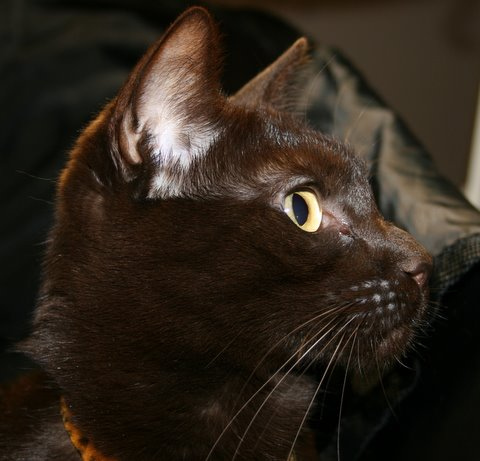cat: (17, 9, 434, 461)
